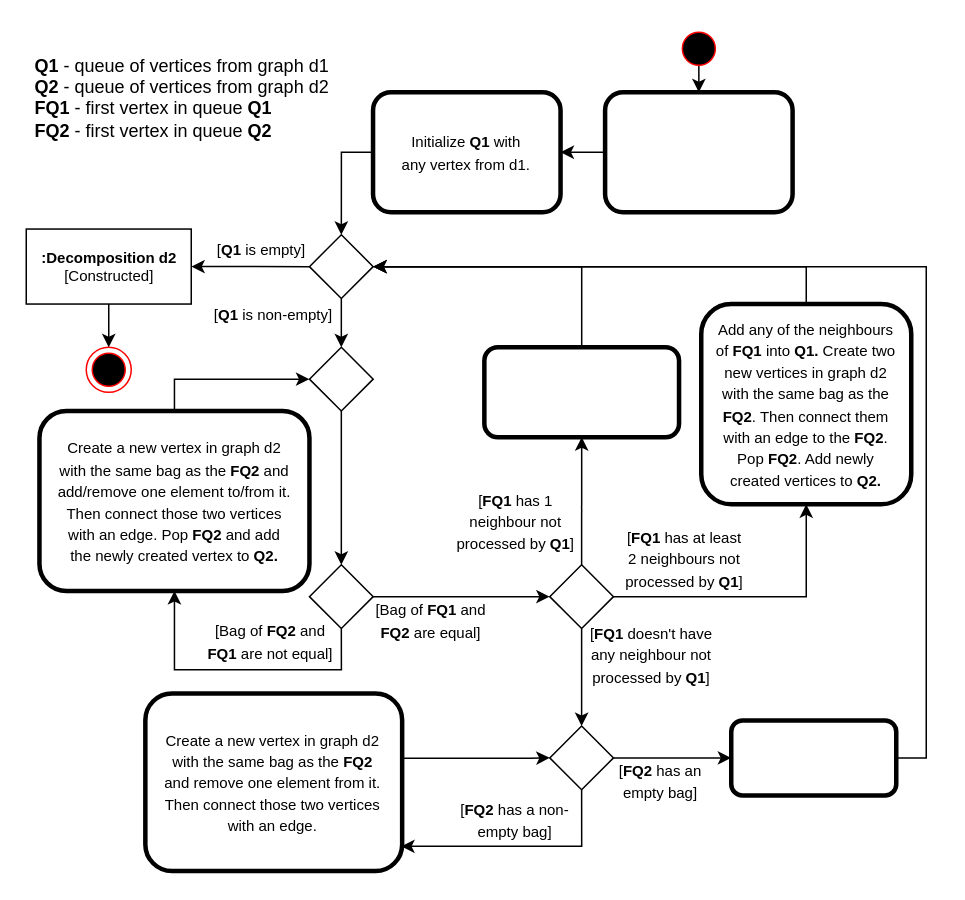
Some shapes in this 965 by 900 pixel diagram are drawn without their labels. The shapes that lost their labels are listed below. From the top down, each one's centre as x and y in pixels, then its label:
At (x=698, y=151): "Create a new vertex in graph d2 with an empty bag and add it to Q2".
At (x=581, y=391): "Add neighbour of FQ1 to Q1 after popping FQ1 .".
At (x=813, y=757): "Pop FQ1 and FQ2 .".
